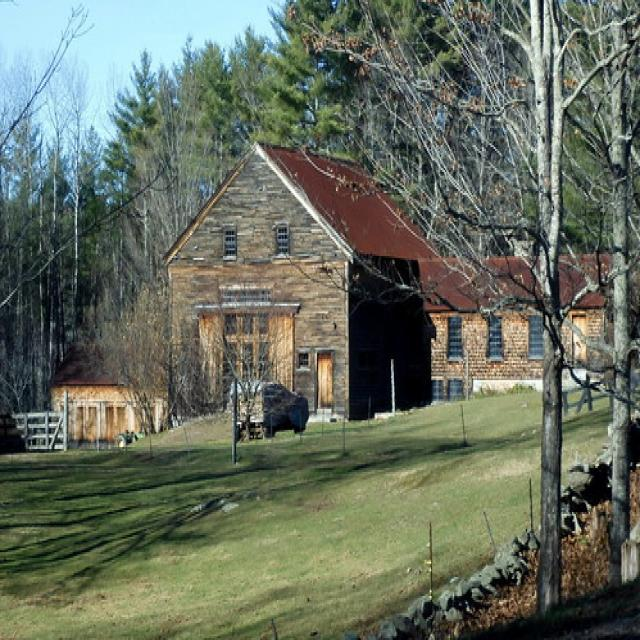Normal_building: (158, 136, 444, 434)
